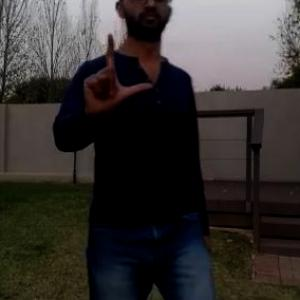land_hand: (82, 25, 158, 122)
